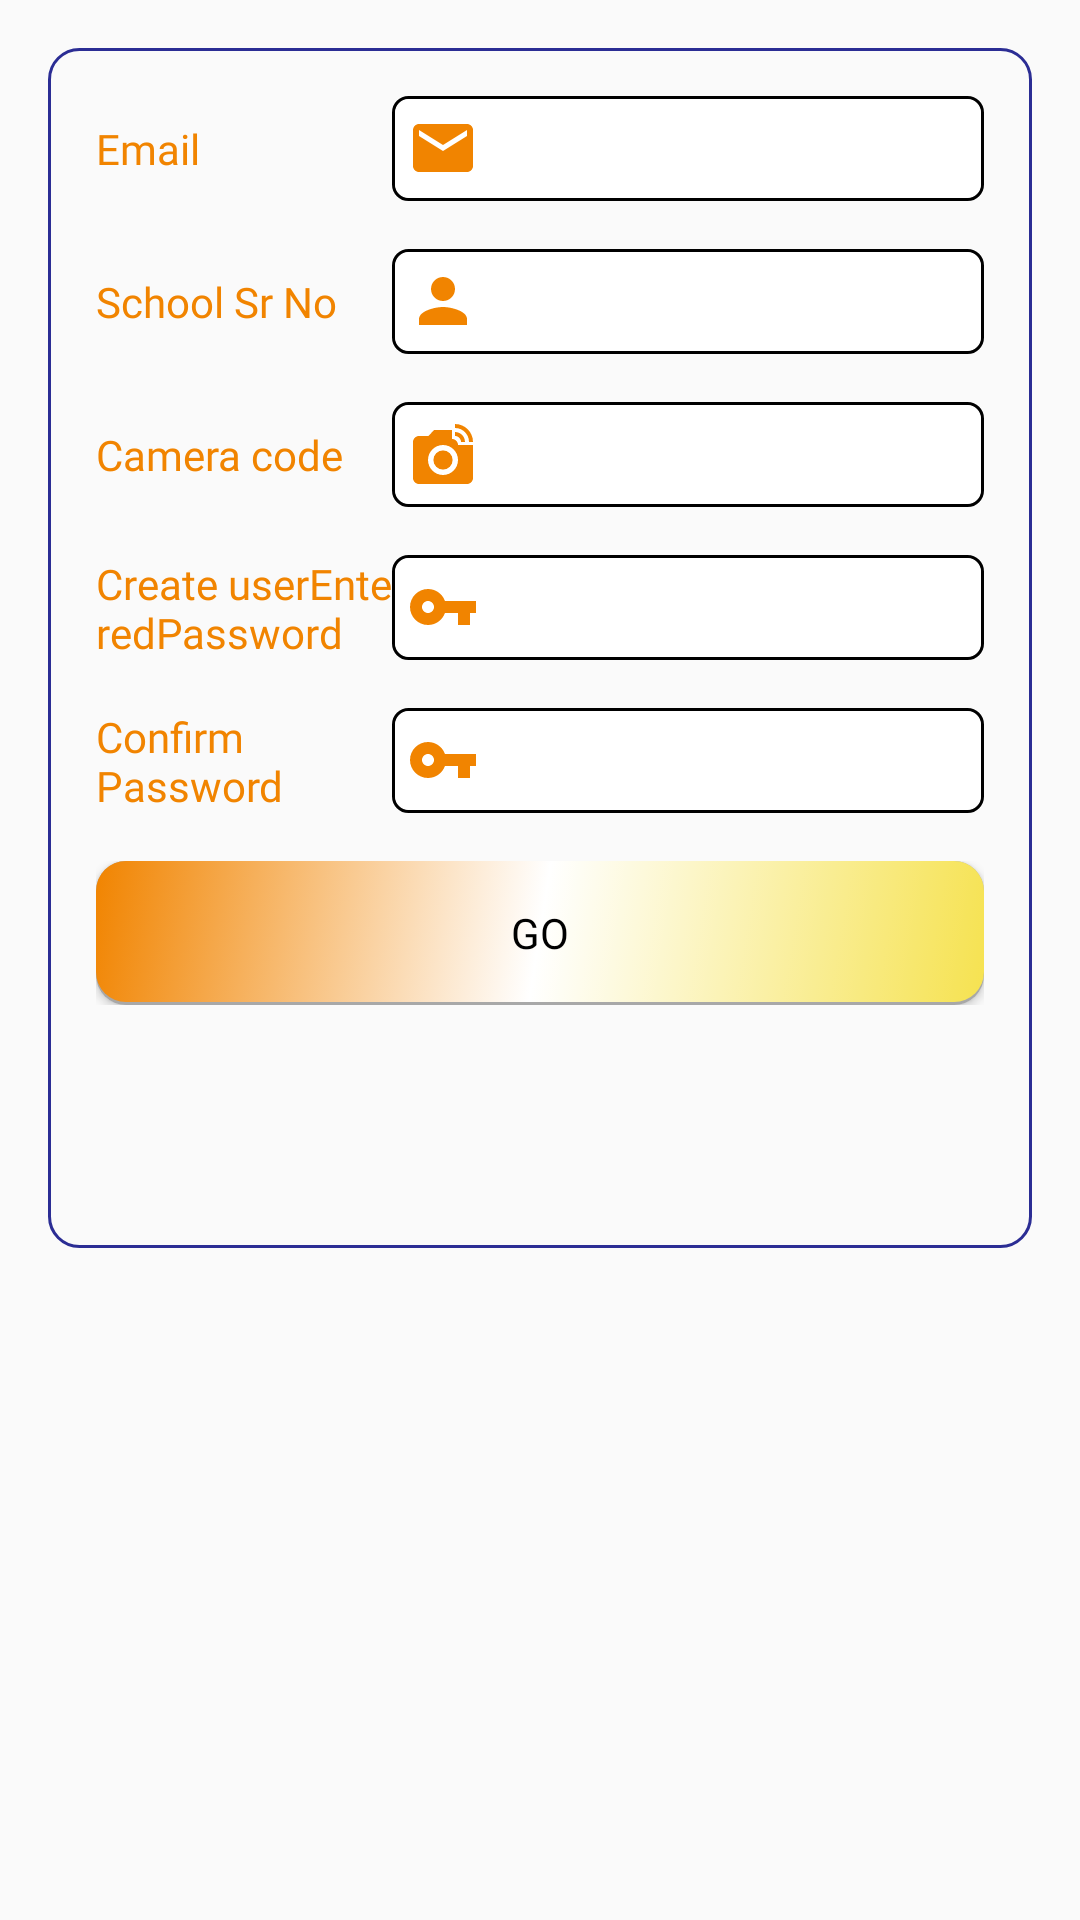

Screen size 1080w x 1920h. Icon name, then its box in pixels as BBox(x1, y1, x2, y2):
linked camera or: BBox(413, 424, 473, 484)
person or: BBox(419, 277, 467, 325)
vpn key or: BBox(410, 589, 476, 625), BBox(410, 742, 476, 778)
